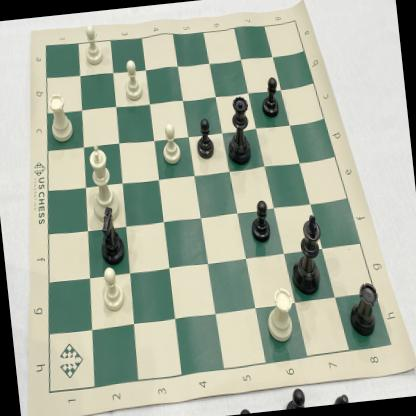king: (282, 210, 328, 300), (83, 137, 122, 224)
knight: (92, 203, 130, 266)
pawn: (246, 196, 275, 248), (98, 264, 126, 314), (257, 72, 283, 122), (158, 120, 184, 168), (118, 56, 144, 103), (191, 115, 216, 162), (80, 22, 105, 67)
queen: (221, 92, 255, 168)
rook: (346, 277, 384, 340), (261, 283, 297, 344), (44, 91, 76, 143)
